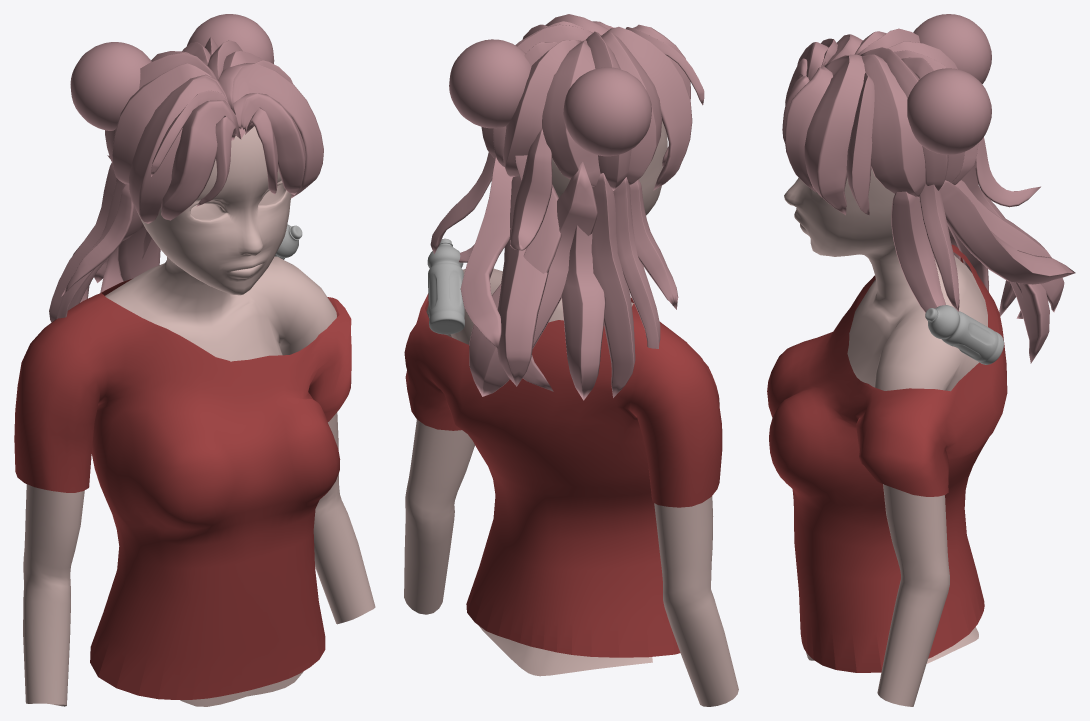
The model's file is FBX_Disloc_2.fbx.
3 renders of one model, left to right at view 1: azimuth 30°, elevation 25°; view 2: azimuth 150°, elevation 25°; view 3: azimuth 270°, elevation 25°, orthographic. The views are drawn at different scales.
Parts seen in each view (by area): view 1: Shirt, Body, Hair, Bottle; view 2: Hair, Shirt, Body, Bottle; view 3: Shirt, Hair, Body, Bottle.
Part boxes in pixels (box(x1,y1,x2,y2)): Shirt: box(14, 278, 351, 699); Body: box(23, 126, 375, 706); Hair: box(49, 14, 323, 322); Bottle: box(274, 224, 302, 259); Hair: box(430, 14, 704, 400); Shirt: box(404, 293, 722, 657); Body: box(404, 121, 738, 706); Bottle: box(427, 238, 464, 334); Shirt: box(767, 244, 1007, 672); Hair: box(782, 14, 1075, 363); Body: box(784, 168, 987, 706); Bottle: box(925, 305, 1003, 364).
Size of the model in its own units: 5.43 by 9.71 by 4.42.
